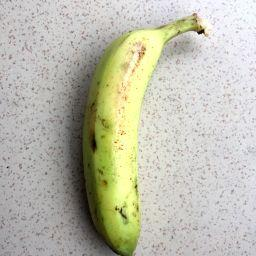Banana Ripe: (76, 9, 210, 256)
